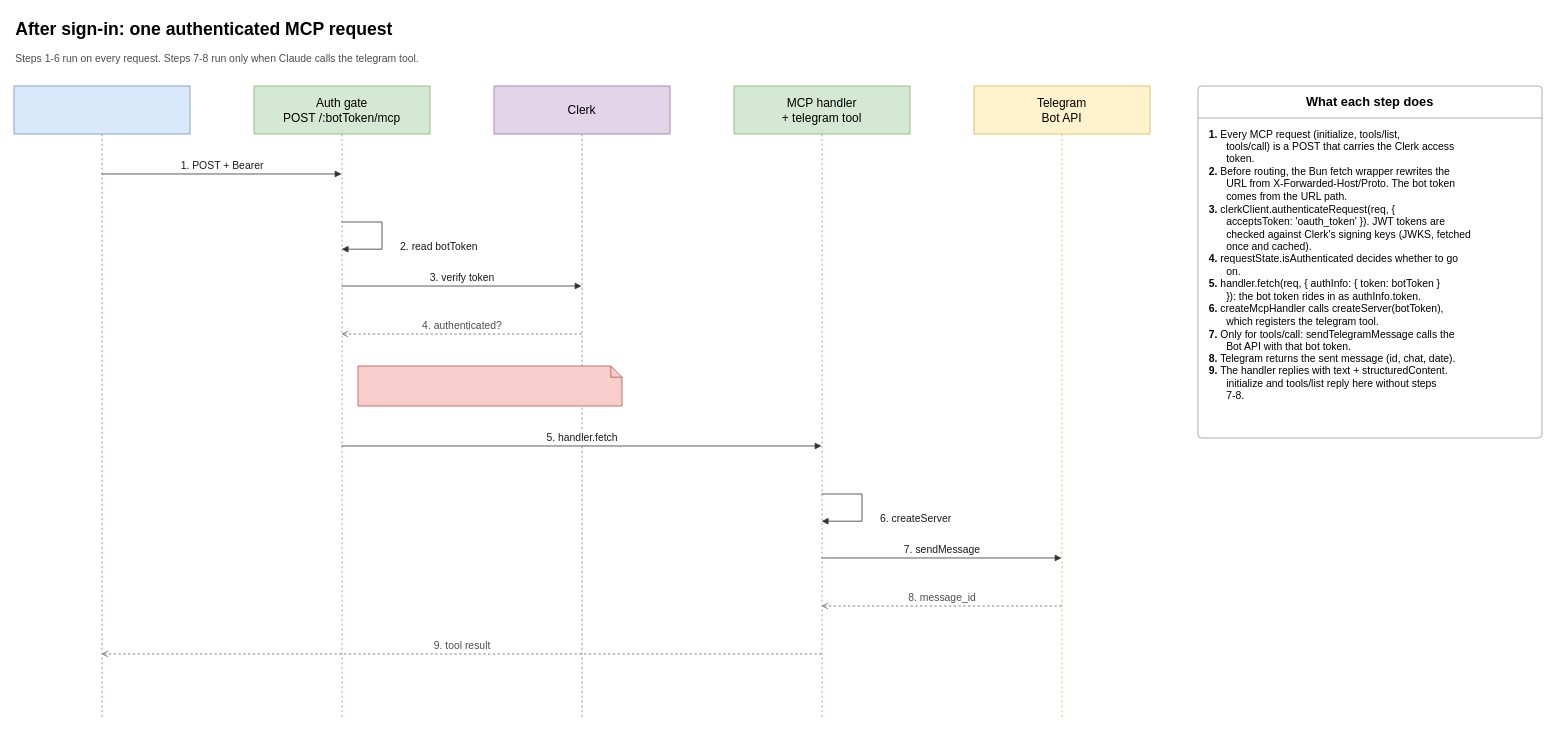
This 1556x732 diagram has some shape labels left out. Each missing label, with the box of its shape:
claude.ai: (13, 85, 190, 718)
Not authenticated: 401 + WWW-Authenticate, so Claude restarts the flow in 02.: (357, 365, 622, 406)
